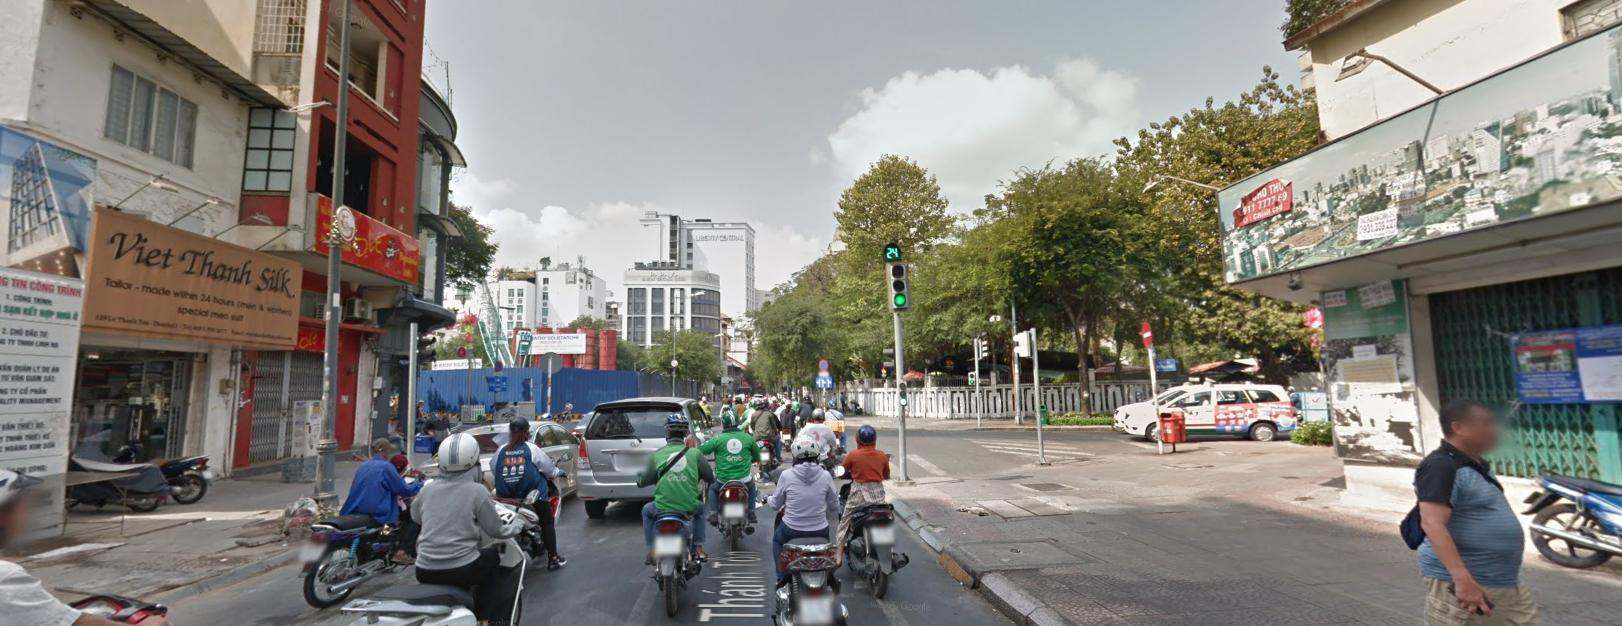Cam dung va do: (816, 357, 829, 368)
Cam nguoc chieu: (1137, 321, 1152, 347)
